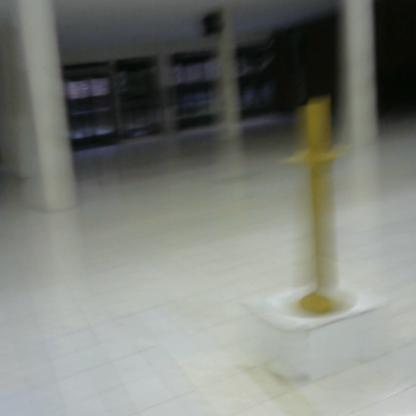pole: (279, 87, 374, 330)
